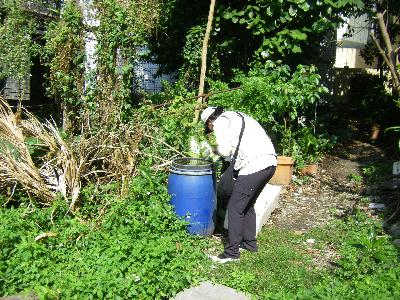bucket: (166, 156, 219, 241)
